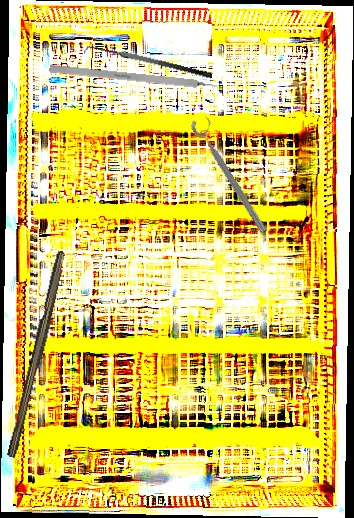Fixation Ring: (188, 112, 277, 237)
Hook Surgical: (49, 64, 233, 92)
Scalpel Handle: (6, 249, 70, 460)
Spatula Surgical: (82, 38, 214, 90)
